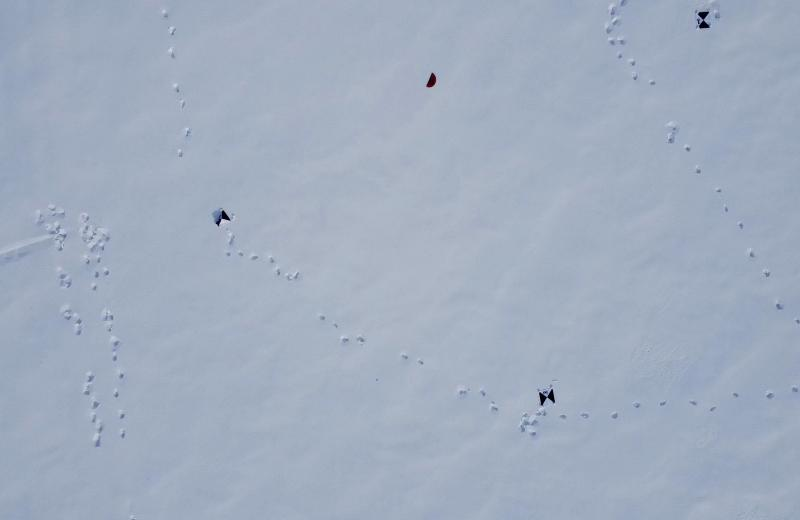Semi Circle: (425, 72, 437, 88)
